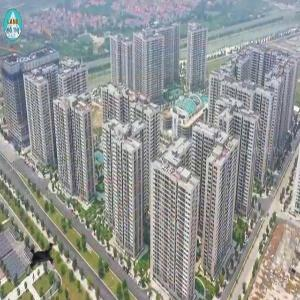drone: (23, 241, 61, 279)
